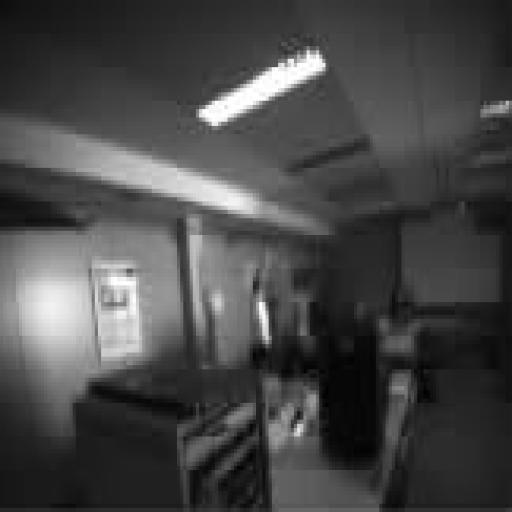human: (282, 254, 328, 358), (238, 251, 278, 366)
